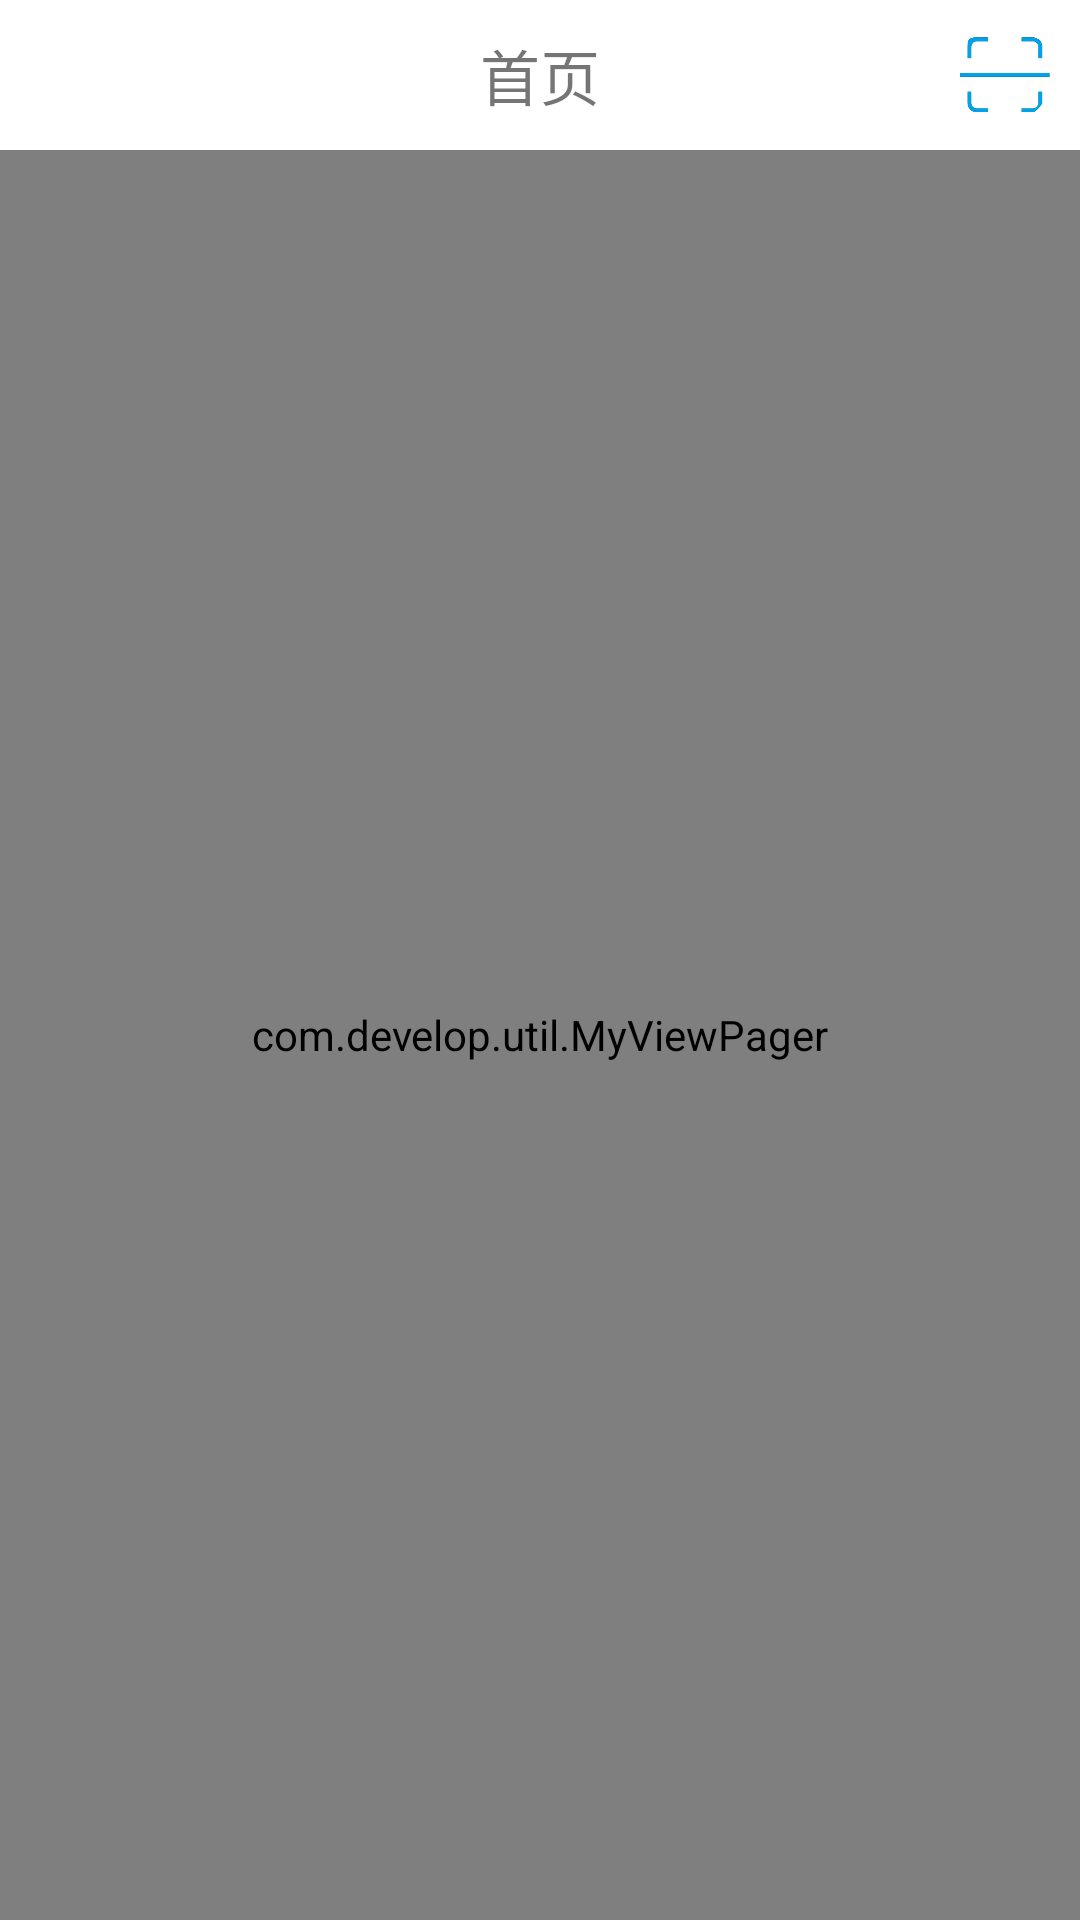

Icons on this 1080 x 1920 Android screen, each with its box as detection(x1, y1, x2, y2):
scan: detection(960, 37, 1050, 112)
